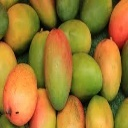mango: (43, 28, 71, 109)
